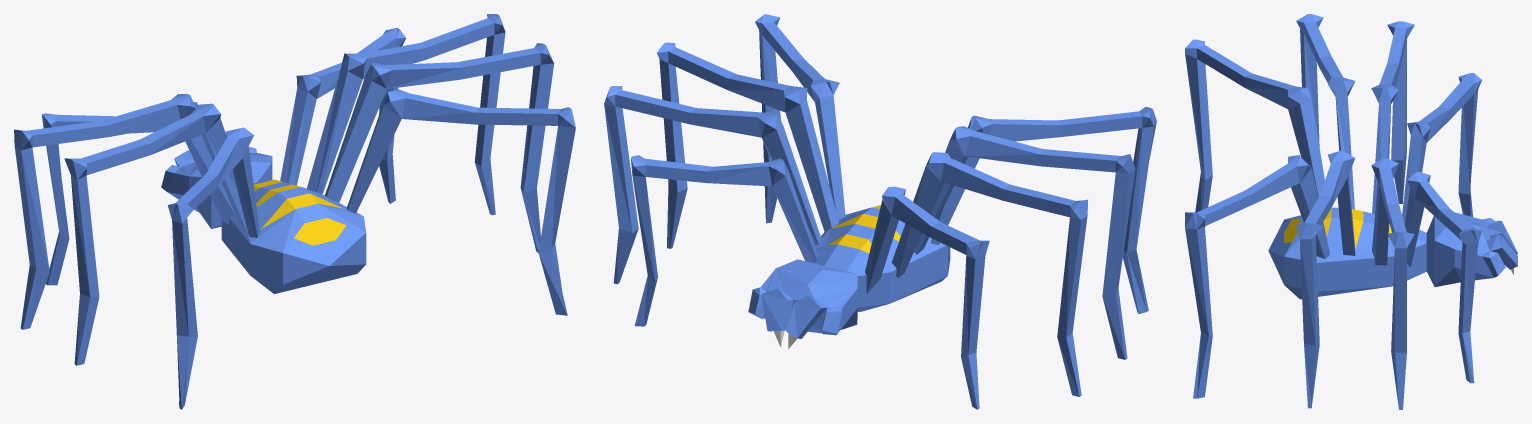
The model's file is npc_world_ice_spider_0.obj.
The picture shows the model from 3 angles, left to right: view 1: azimuth 30°, elevation 25°; view 2: azimuth 150°, elevation 25°; view 3: azimuth 270°, elevation 25°; orthographic projection. The views are drawn at different scales.
Bounding box in the file's own units: 1 × 0.4297 × 0.6562.
